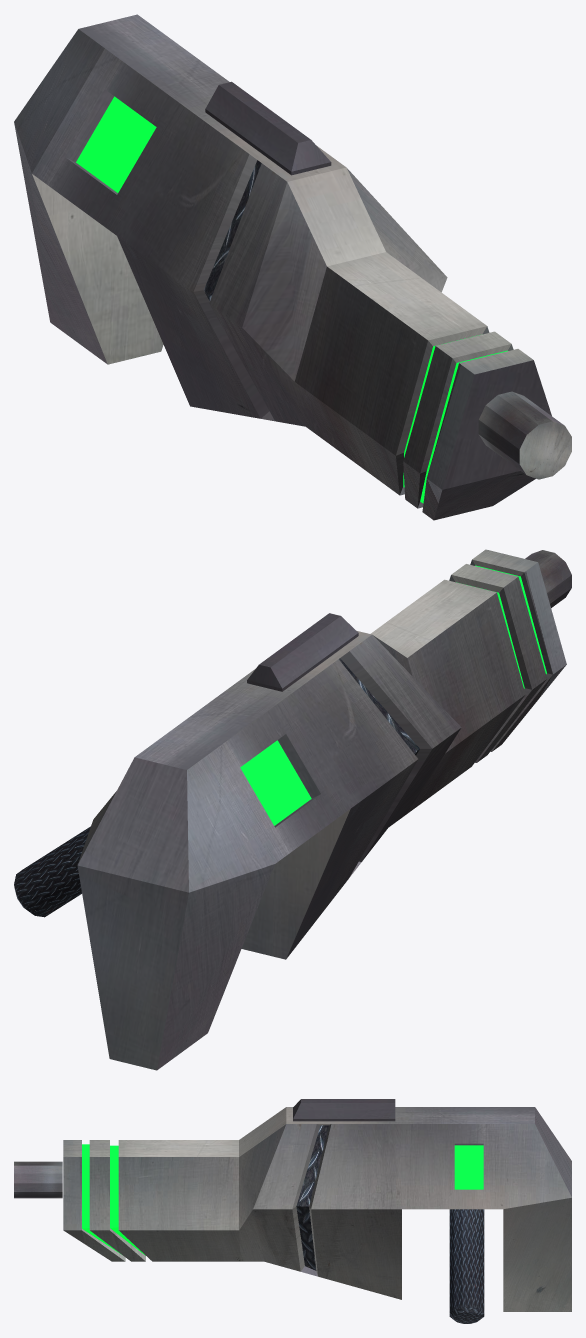
The model's file is Plasma Rifle.fbx.
3 views of the same model, one above another, from view 1: azimuth 30°, elevation 25°; view 2: azimuth 150°, elevation 25°; view 3: azimuth 270°, elevation 25° (orthographic). The views are drawn at different scales.
Visible parts, largest first — view 1: Plasma Gun; view 2: Plasma Gun; view 3: Plasma Gun.
Part boxes in pixels (x1,y1,x2,y2): Plasma Gun: [14, 14, 571, 520]; Plasma Gun: [14, 549, 571, 1070]; Plasma Gun: [14, 1099, 571, 1323].
Size of the model in its own units: 23.37 by 23.83 by 59.33.
Materials: 3 (2 with a texture image).
